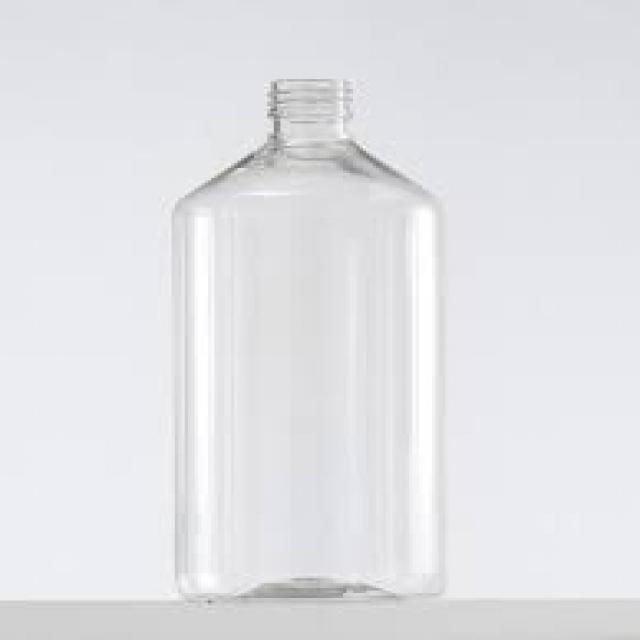Glass-Non-Biodegradable but Recyclable-: (165, 79, 444, 603)
